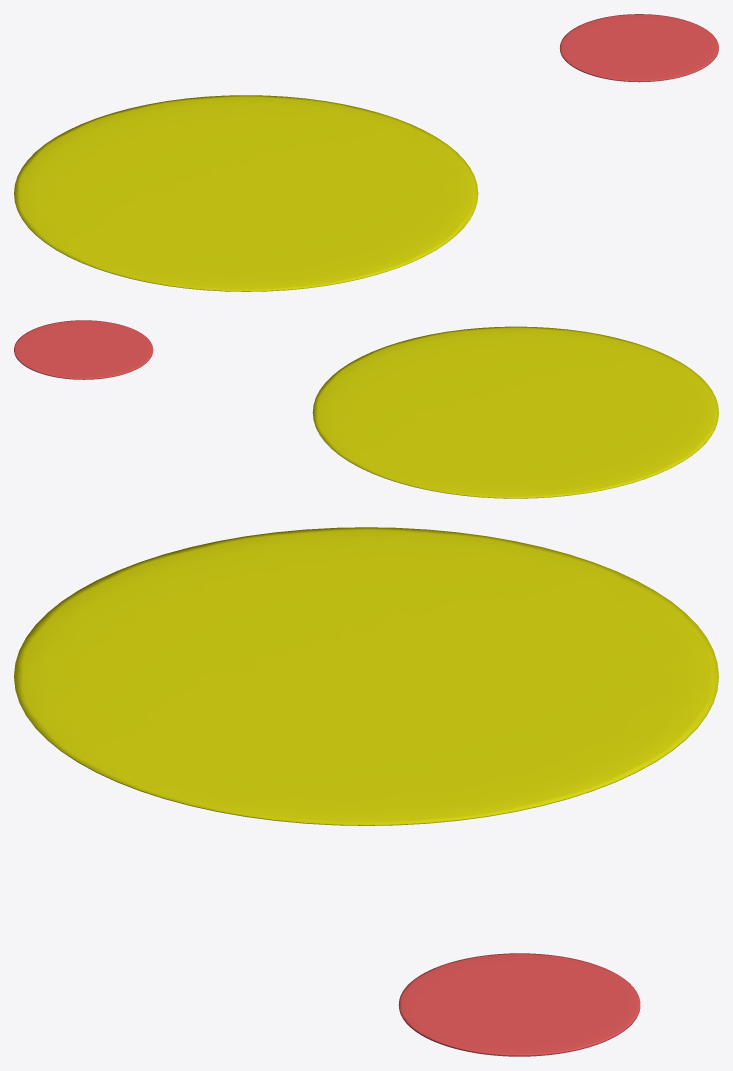
File: star.obj
3 views of the same model, one above another, from view 1: azimuth 30°, elevation 25°; view 2: azimuth 150°, elevation 25°; view 3: azimuth 270°, elevation 25° (orthographic). The views are drawn at different scales.
Visible parts, largest first — view 1: Cylinder001, Cylinder002, Star001; view 2: Cylinder001, Cylinder002, Star001; view 3: Cylinder001, Cylinder002, Star001.
Boxes of the visible parts, x1=… form: Cylinder001: x1=14, y1=95, x2=478, y2=291; Cylinder002: x1=559, y1=14, x2=718, y2=82; Star001: x1=568, y1=21, x2=709, y2=73; Cylinder001: x1=312, y1=326, x2=718, y2=498; Cylinder002: x1=14, y1=320, x2=153, y2=379; Star001: x1=22, y1=326, x2=145, y2=371; Cylinder001: x1=14, y1=527, x2=718, y2=825; Cylinder002: x1=398, y1=953, x2=640, y2=1056; Star001: x1=411, y1=964, x2=627, y2=1043.
Size of the model in its own units: 44.4 by 0.0854 by 25.02.
